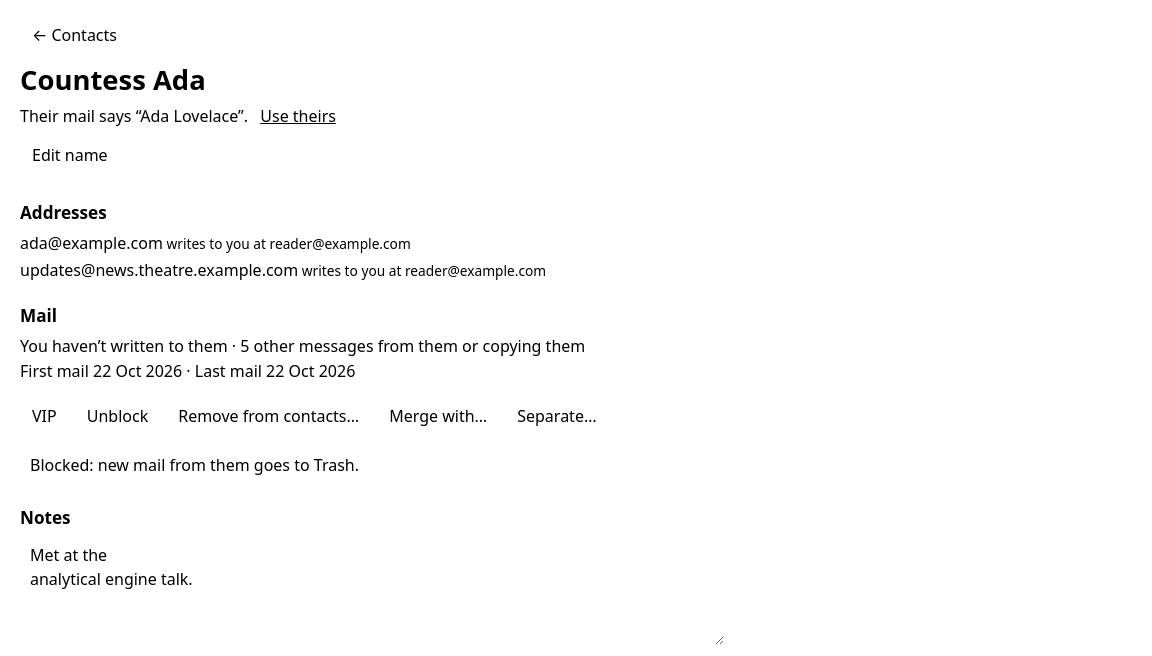
Scenario: a contact's page (#816) › after Separate, says the contact is back as it was and which of your edits were kept
Click the button "Separate…": {"x": 557, "y": 417} left=505, top=398, right=609, bottom=436
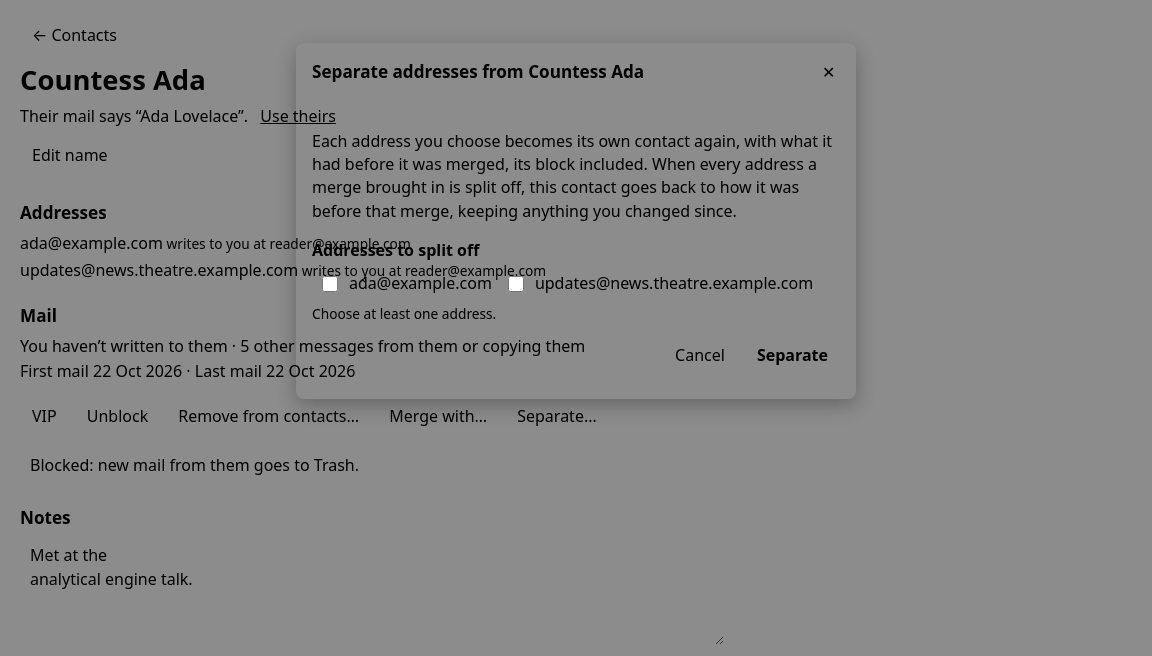
Click the label "updates@news.theatre.example.com": {"x": 659, "y": 284} left=498, top=266, right=819, bottom=301
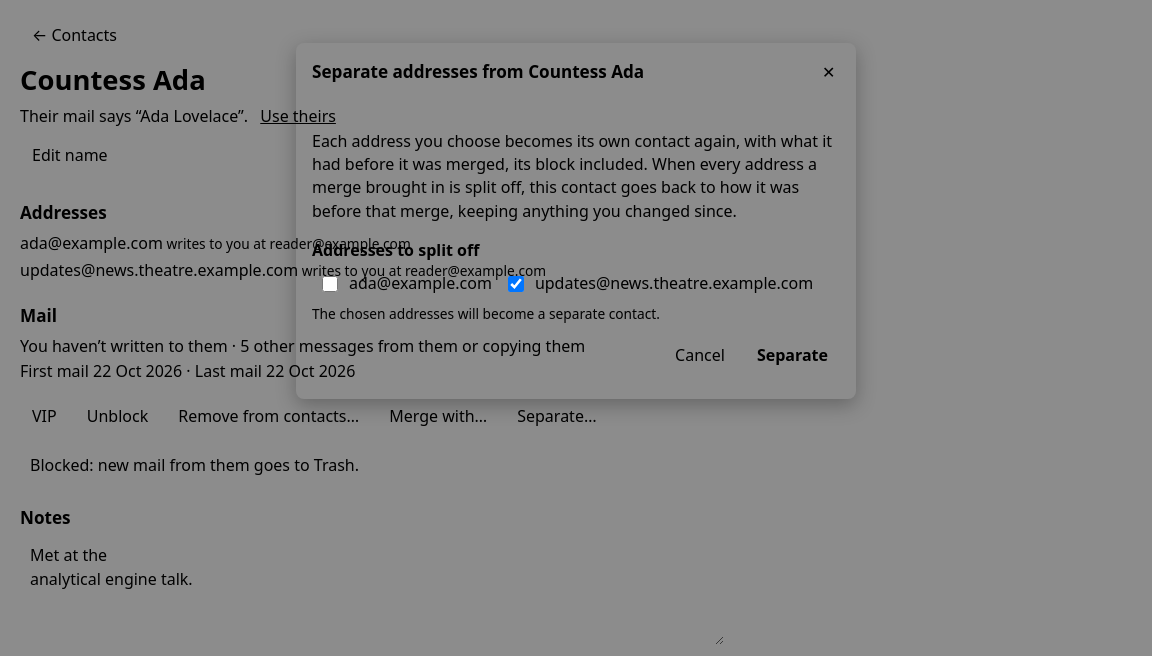
Click the button "Separate": {"x": 792, "y": 355} left=745, top=336, right=840, bottom=375
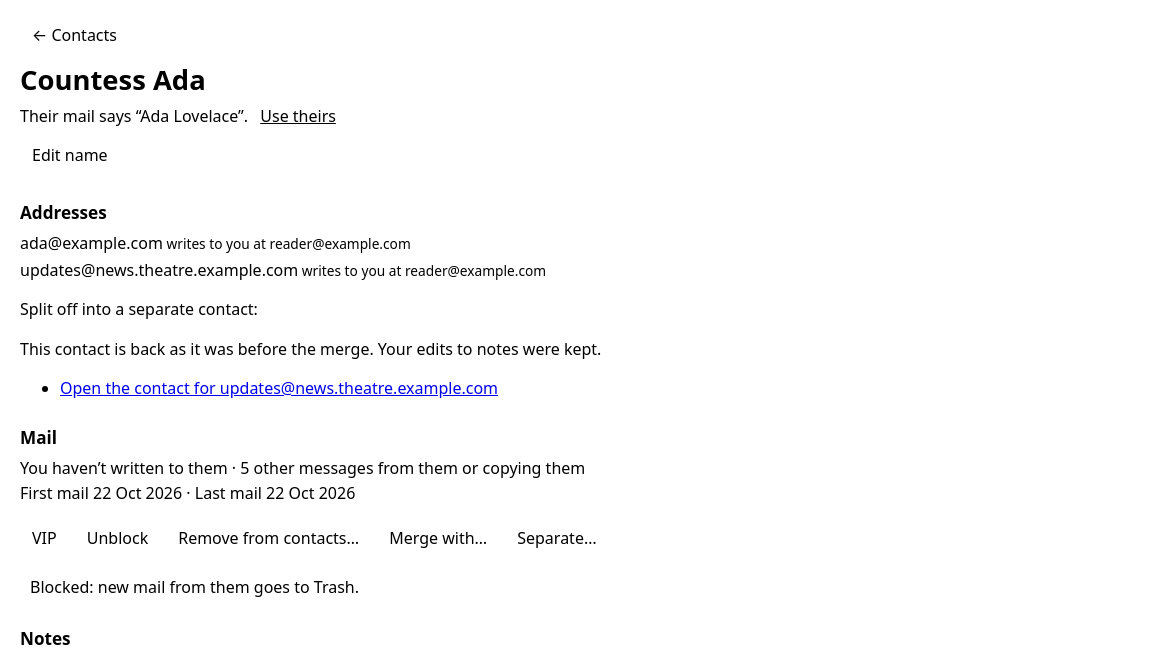
expect the message with class "contact-separated" shows "This contact is back as it was before the merge. Your edits to notes were kept.": met, box left=20, top=338, right=601, bottom=360
